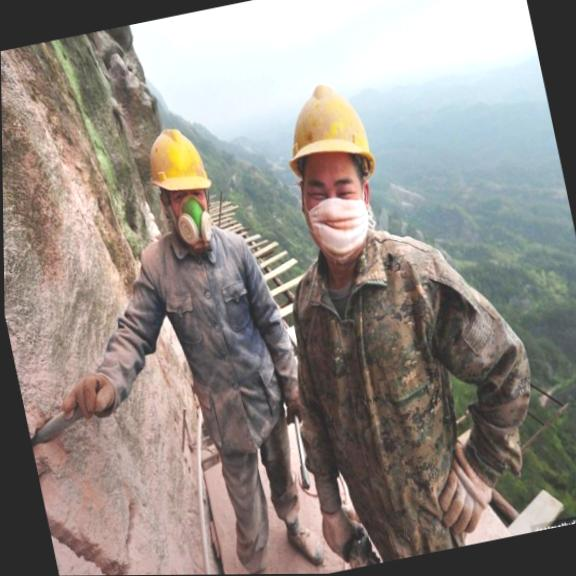no_safety_vest: (261, 201, 565, 573), (121, 208, 310, 450)
